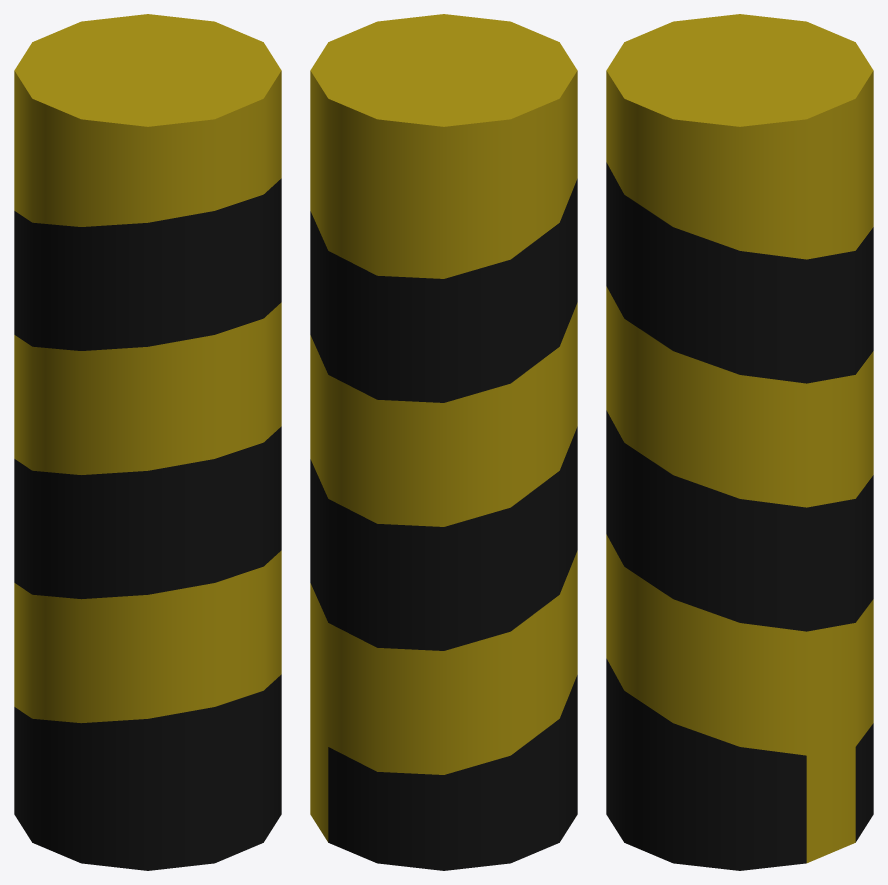
The model's file is fd_hazard_pole.FBX.
3 renders of one model, left to right at view 1: azimuth 30°, elevation 25°; view 2: azimuth 150°, elevation 25°; view 3: azimuth 270°, elevation 25°, orthographic.
Parts seen in each view (by area): view 1: Pole; view 2: Pole; view 3: Pole.
Part boxes in pixels (x1,y1,x2,y2): Pole: (14, 14, 281, 870); Pole: (310, 14, 577, 870); Pole: (606, 14, 873, 870).
Size of the model in its own units: 14.42 by 44.32 by 14.42.
